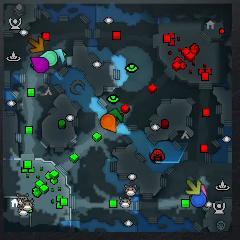p1: (191, 190, 206, 207)
p2: (40, 51, 57, 67)
p3: (30, 57, 49, 73)
p5: (101, 114, 116, 132)
x1: (201, 184, 207, 196)
x2: (186, 179, 201, 196)
x3: (53, 49, 65, 62)
x4: (108, 108, 123, 121)
x5: (29, 37, 44, 53)
